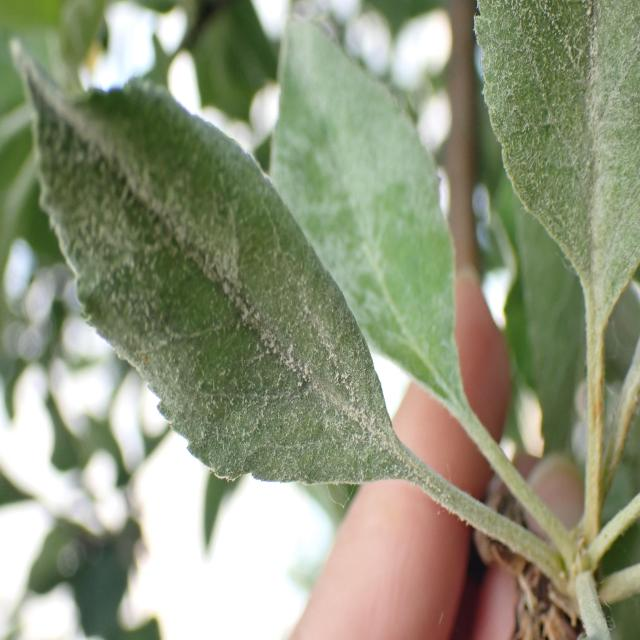Powdery_mildew: (3, 36, 421, 498), (261, 0, 484, 431), (473, 0, 640, 362)
